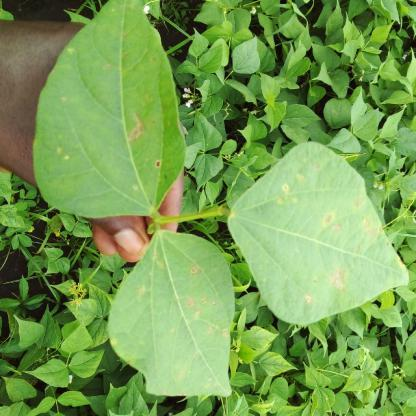Beans_Angular_LeafSpot: (31, 0, 192, 223), (231, 140, 412, 328), (109, 225, 231, 396)
